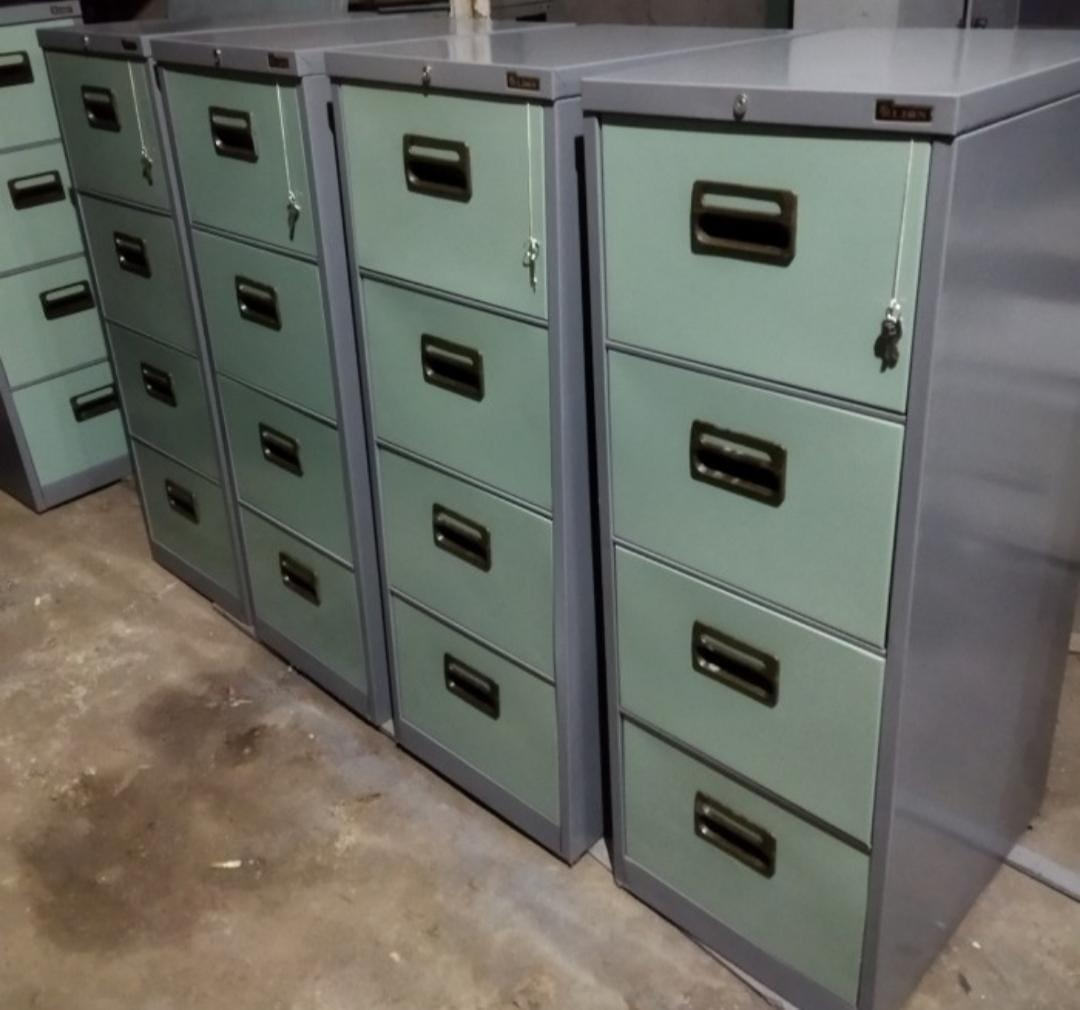Filing Cabinet: (578, 79, 957, 1009), (322, 50, 577, 869), (148, 37, 377, 727), (34, 28, 252, 626), (1, 0, 134, 512)
